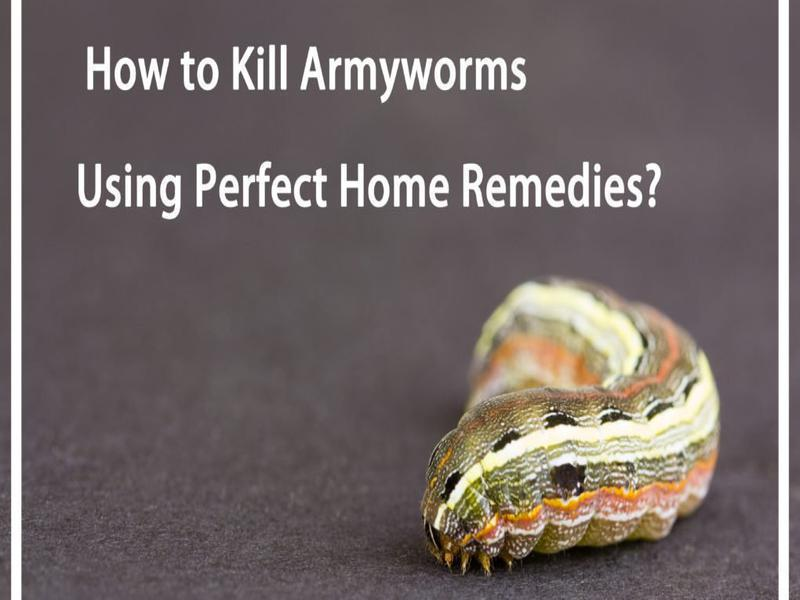Armyworms: (383, 268, 725, 582)
